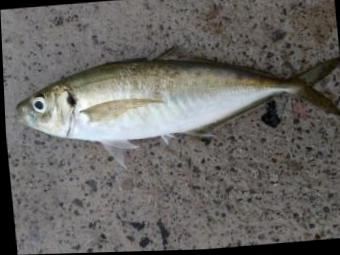fish: (14, 53, 340, 167)
